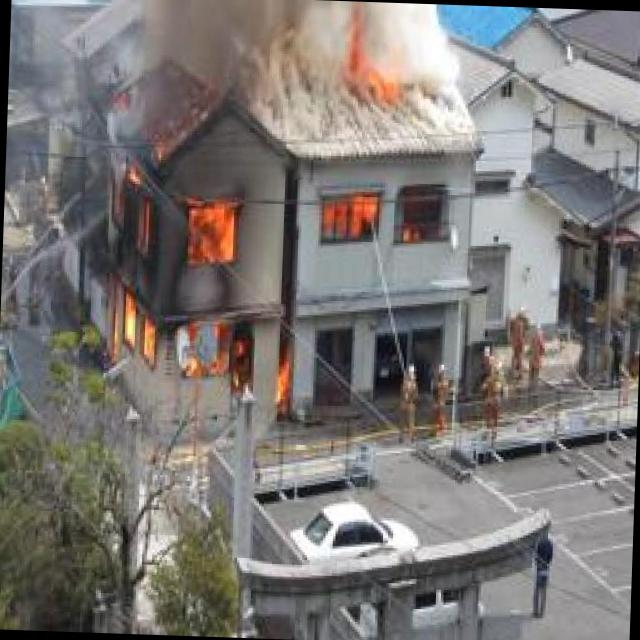Fire: (83, 156, 304, 432), (312, 192, 446, 252), (334, 25, 411, 108)
Smoke: (133, 0, 333, 145), (404, 3, 488, 147)
